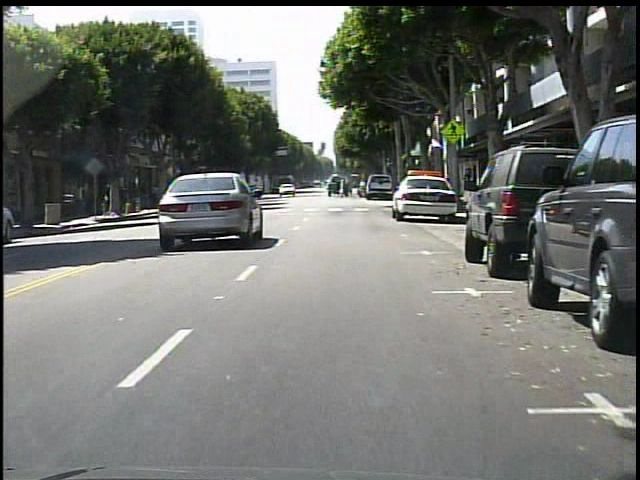person: (76, 181, 87, 214), (117, 187, 128, 216), (111, 185, 120, 213), (342, 176, 343, 198)
